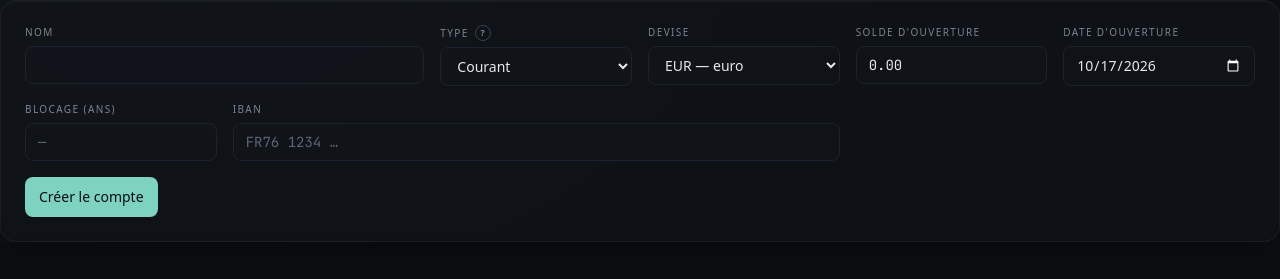
Test: AccountForm › shows account-type examples in a tooltip on the Type label
Hover over the button named "exemples de types de compte" at x=483, y=33, box x1=475 y1=25 x2=491 y2=41
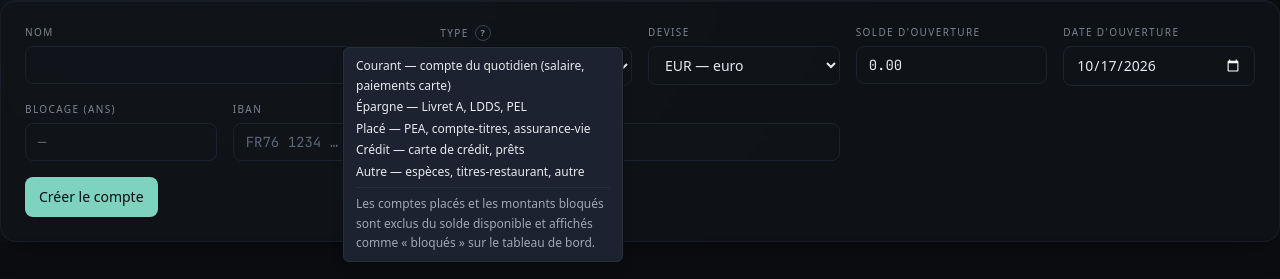
Expected: the list item "Placé — PEA, compte-titres, assurance-vie" is shown, x1=356 y1=118 x2=610 y2=138
Expected: the text "solde disponible" is shown, x1=356 y1=195 x2=604 y2=251
